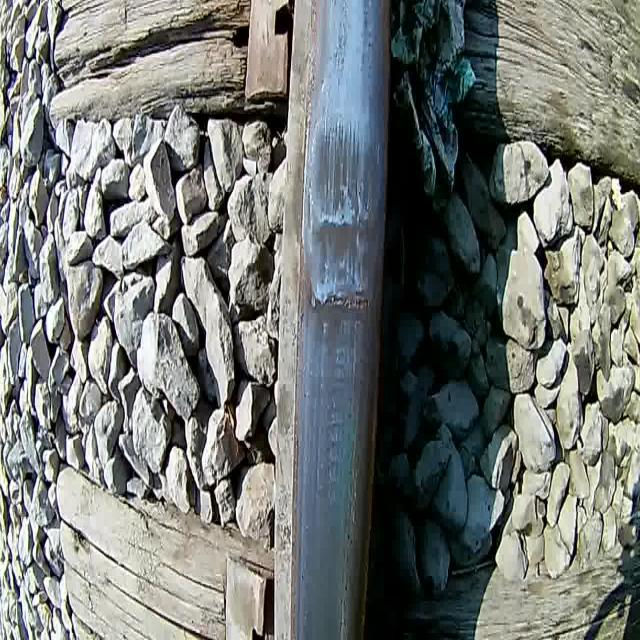Cracks: (302, 277, 380, 323)
Squats: (311, 115, 383, 219), (308, 211, 381, 290)
